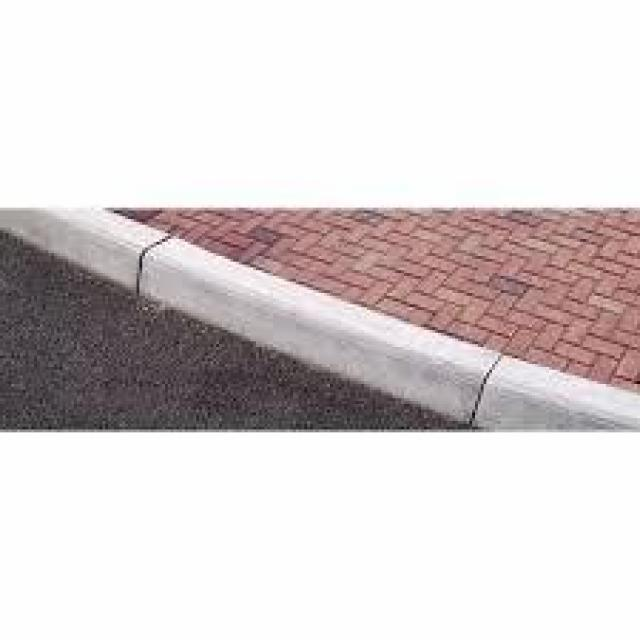curb: (227, 264, 480, 428), (4, 200, 239, 326), (481, 336, 640, 434)
